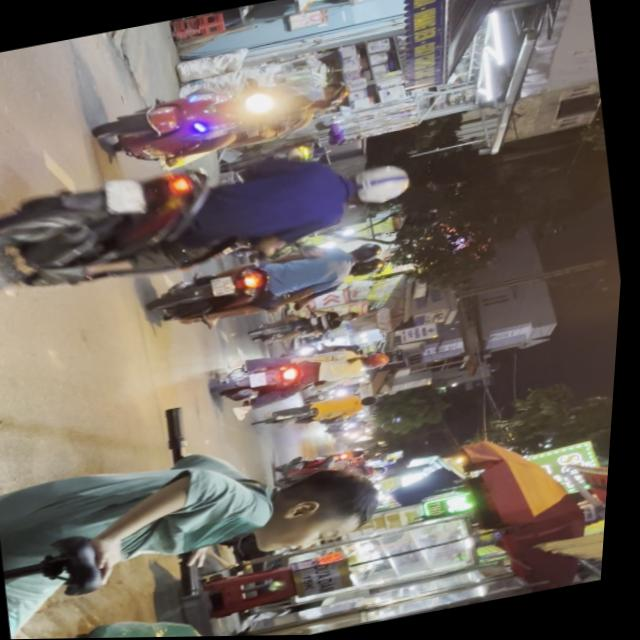helmet: (344, 158, 419, 209), (312, 86, 355, 111), (351, 239, 390, 263), (354, 255, 393, 277), (368, 349, 397, 369)
licenseplate: (0, 118, 430, 310), (89, 58, 366, 177), (147, 230, 401, 336), (211, 329, 404, 416)
nohelmet: (107, 173, 151, 216), (214, 274, 240, 296)
